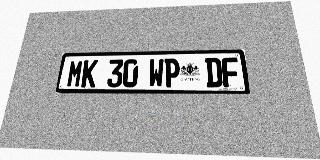0: (122, 59, 138, 87)
3: (107, 59, 124, 87)
D: (205, 58, 223, 87)
F: (221, 57, 240, 87)
K: (81, 60, 98, 87)
M: (66, 60, 84, 87)
P: (164, 58, 180, 87)
W: (148, 59, 164, 87)
